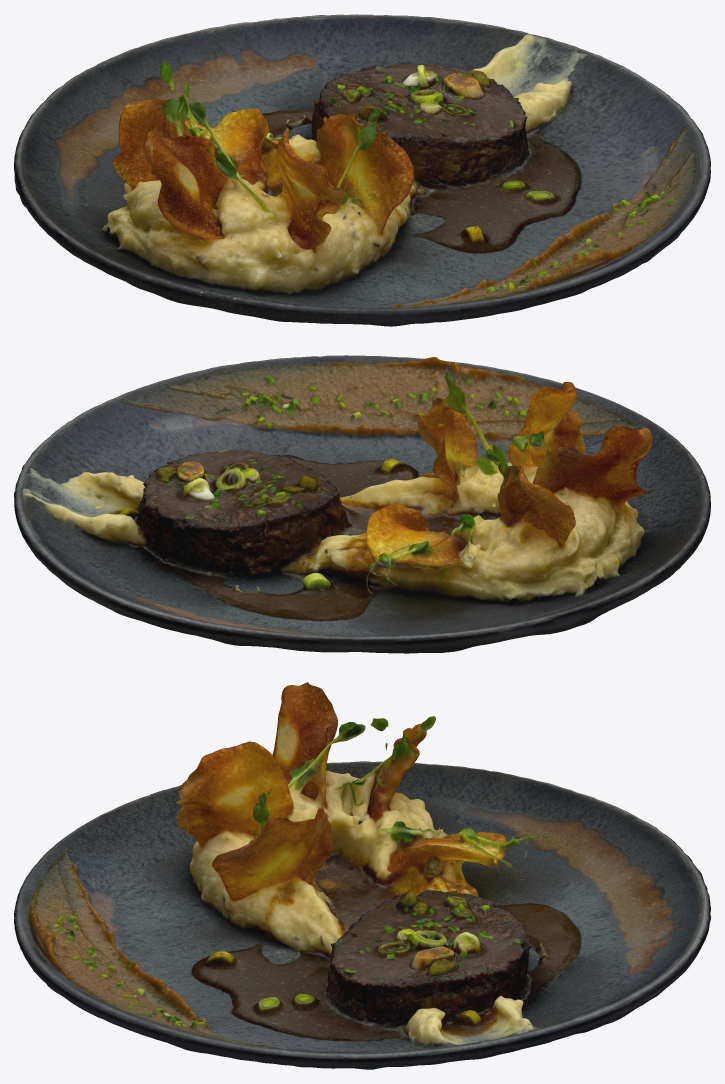
Rendered from agneau.glb.
The picture shows the model from 3 angles, top to bottom: view 1: azimuth 30°, elevation 25°; view 2: azimuth 150°, elevation 25°; view 3: azimuth 270°, elevation 25°; orthographic projection.
Parts seen in each view (by area): view 1: _100DCF7B_374B_454C_AE2C_E1D2B48605E2; view 2: _100DCF7B_374B_454C_AE2C_E1D2B48605E2; view 3: _100DCF7B_374B_454C_AE2C_E1D2B48605E2.
Boxes of the visible parts, x1,y1,x2,y2 form: _100DCF7B_374B_454C_AE2C_E1D2B48605E2: (14, 14, 710, 326); _100DCF7B_374B_454C_AE2C_E1D2B48605E2: (14, 355, 710, 653); _100DCF7B_374B_454C_AE2C_E1D2B48605E2: (14, 682, 710, 1069).
Size of the model in its own units: 0.3417 by 0.092 by 0.3415.
1 material, 1 textured.
